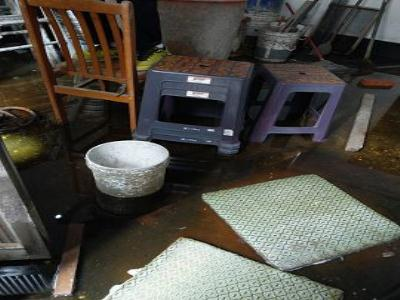bucket: (81, 138, 173, 201), (252, 27, 301, 66)
